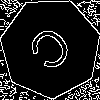C: (25, 23, 81, 81)
